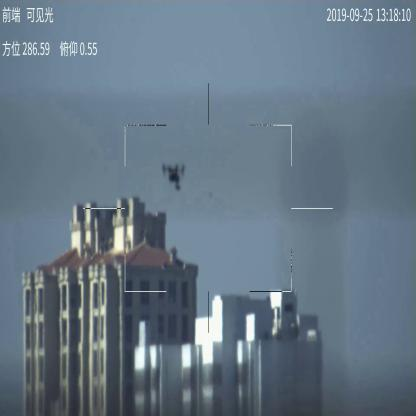uav: (162, 159, 186, 189)
